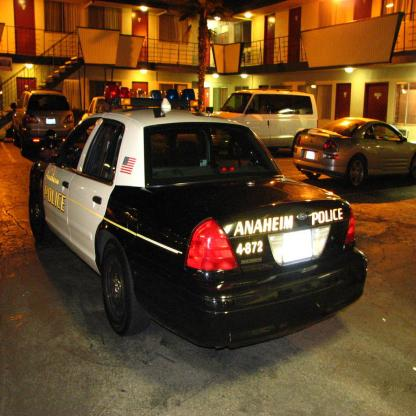Car: (41, 107, 355, 352), (295, 118, 416, 191), (11, 88, 77, 156), (84, 94, 107, 138)
